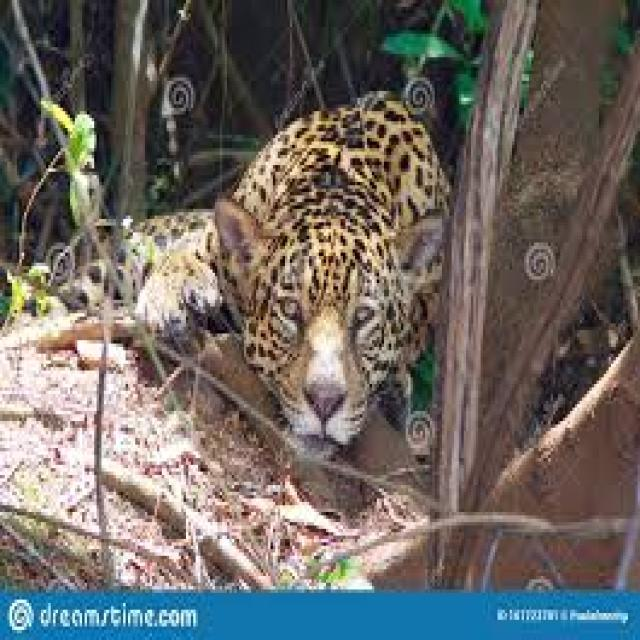Jaguar: (63, 91, 449, 468)
